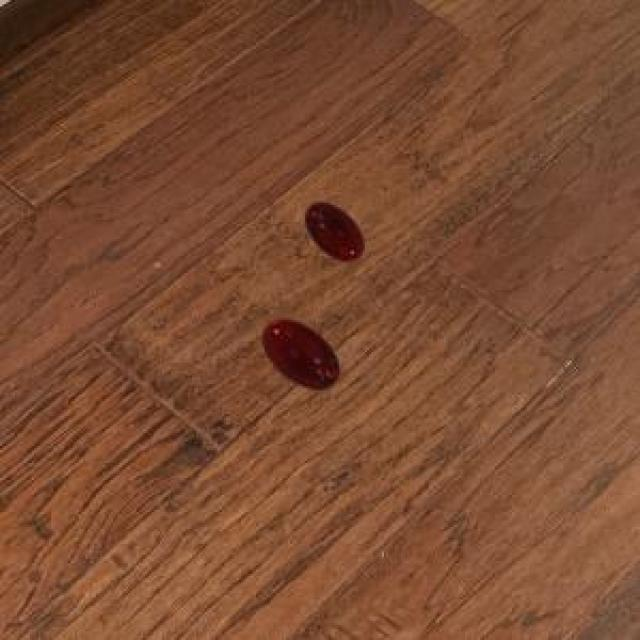Medicol: (245, 305, 348, 406), (294, 192, 371, 276)
